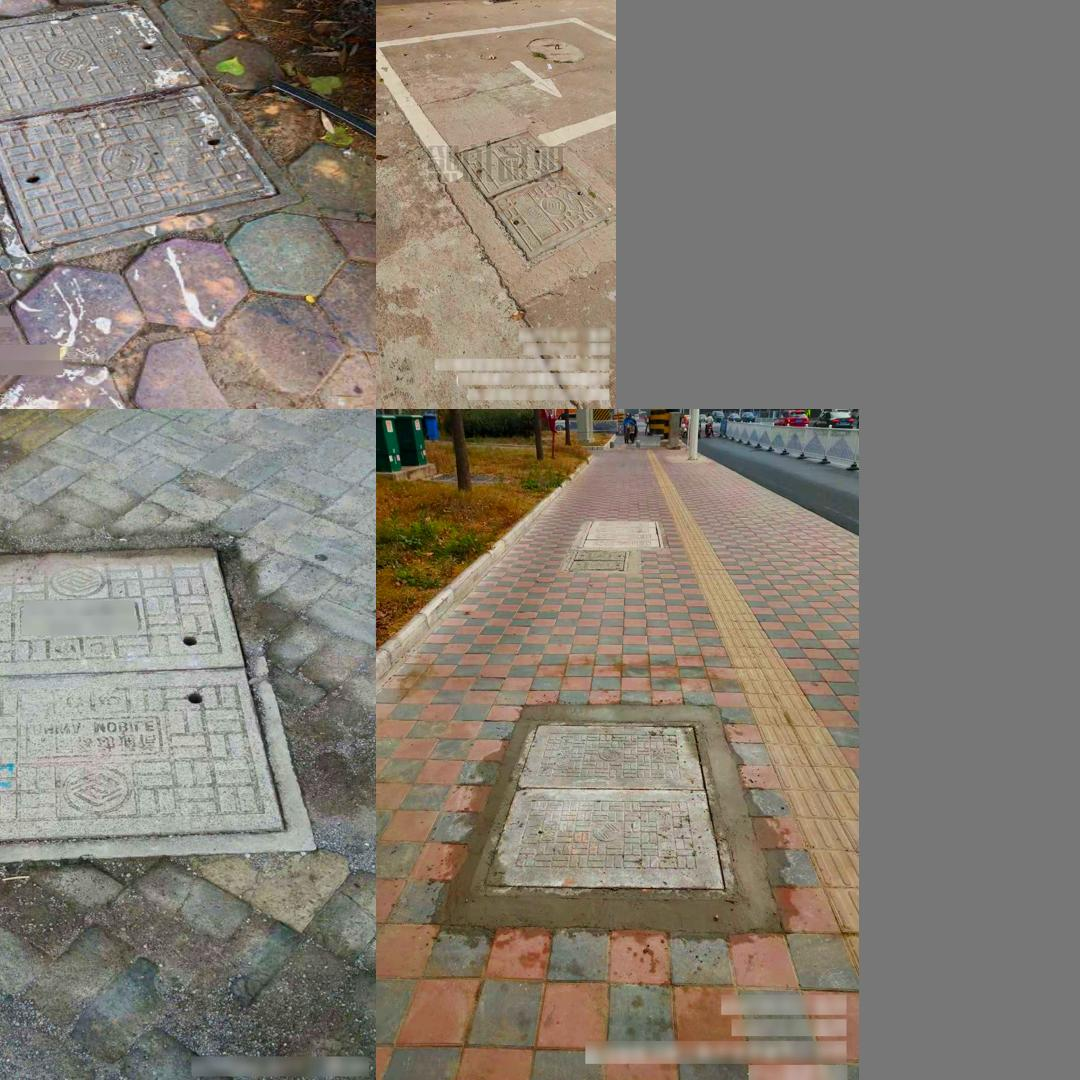good: (0, 530, 316, 869), (0, 0, 303, 269), (467, 720, 743, 898), (452, 126, 615, 266)
